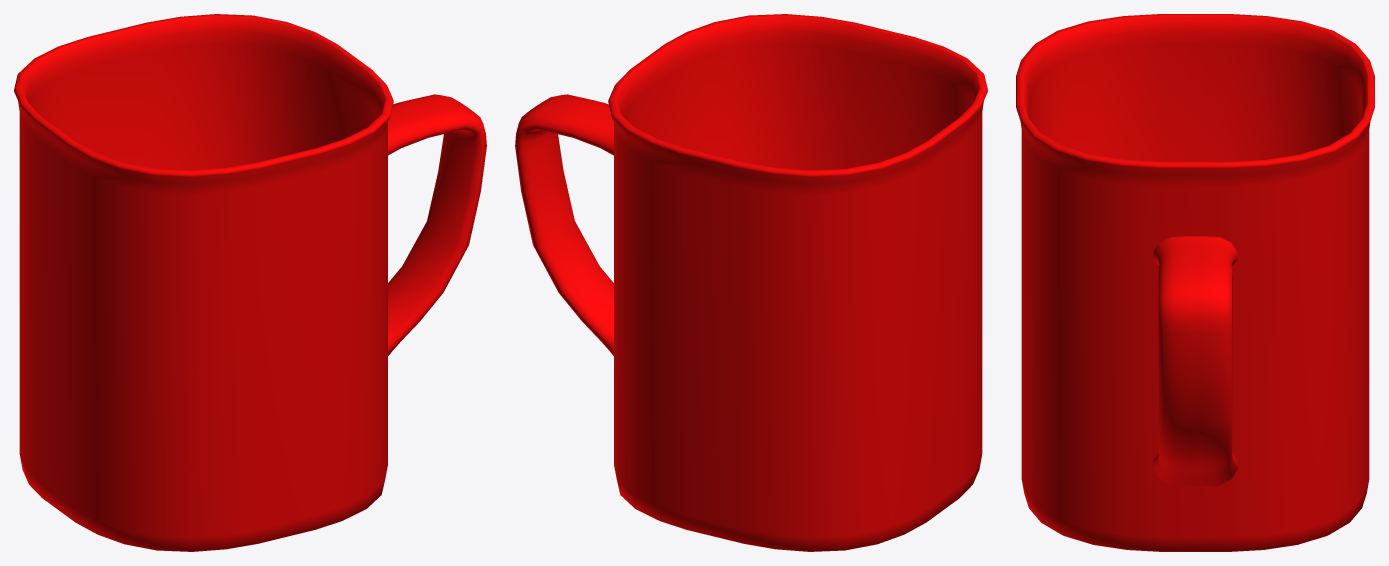
File: Tassa.fbx
The picture shows the model from 3 angles, left to right: view 1: azimuth 30°, elevation 25°; view 2: azimuth 150°, elevation 25°; view 3: azimuth 270°, elevation 25°; orthographic projection. The views are drawn at different scales.
Visible parts, largest first — view 1: Circle, Circle.001; view 2: Circle, Circle.001; view 3: Circle, Circle.001.
Part boxes in pixels (bbox=[...]): Circle: bbox=[14, 14, 393, 551]; Circle.001: bbox=[388, 94, 486, 355]; Circle: bbox=[608, 14, 987, 551]; Circle.001: bbox=[515, 94, 613, 355]; Circle: bbox=[1016, 14, 1374, 551]; Circle.001: bbox=[1153, 236, 1237, 486].
Size of the model in its own units: 287 by 249 by 207.
